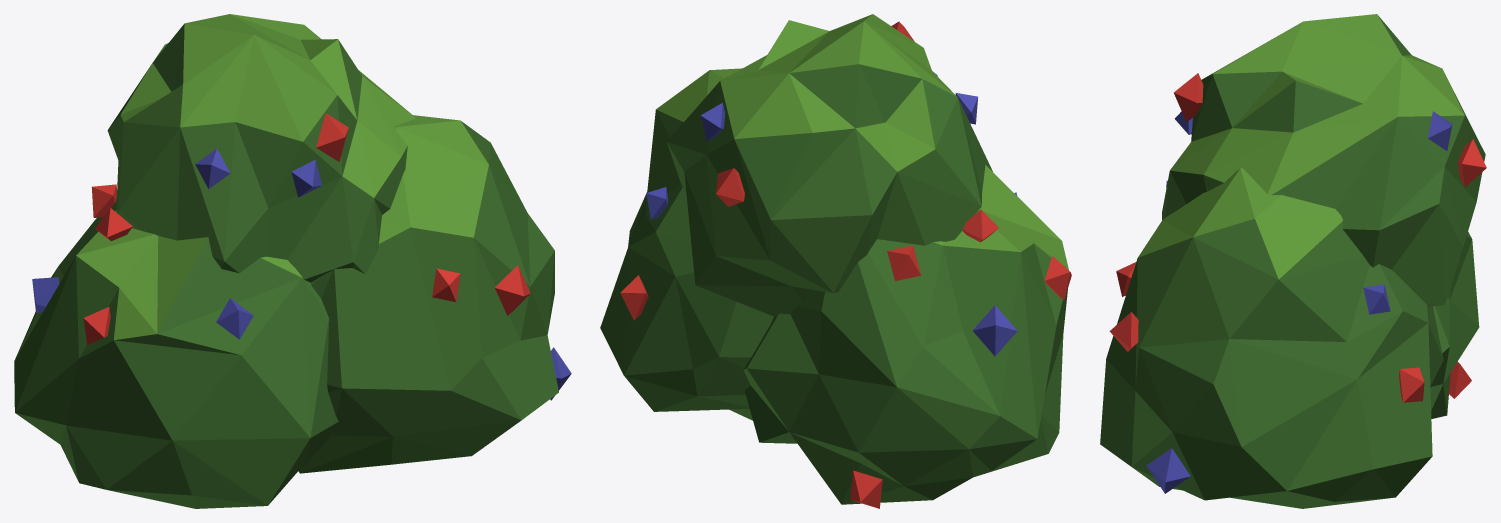
Rendered from Veg_Beerenbusch.fbx.
3 renders of one model, left to right at view 1: azimuth 30°, elevation 25°; view 2: azimuth 150°, elevation 25°; view 3: azimuth 270°, elevation 25°, orthographic.
Parts seen in each view (by area): view 1: Veg_Beerenbusch; view 2: Veg_Beerenbusch; view 3: Veg_Beerenbusch.
Boxes of the visible parts, x1,y1,x2,y2 form: Veg_Beerenbusch: (14, 14, 571, 508); Veg_Beerenbusch: (600, 14, 1071, 508); Veg_Beerenbusch: (1100, 14, 1486, 508).
Bounding box in the file's own units: 1.4 × 1.2 × 0.9996.
